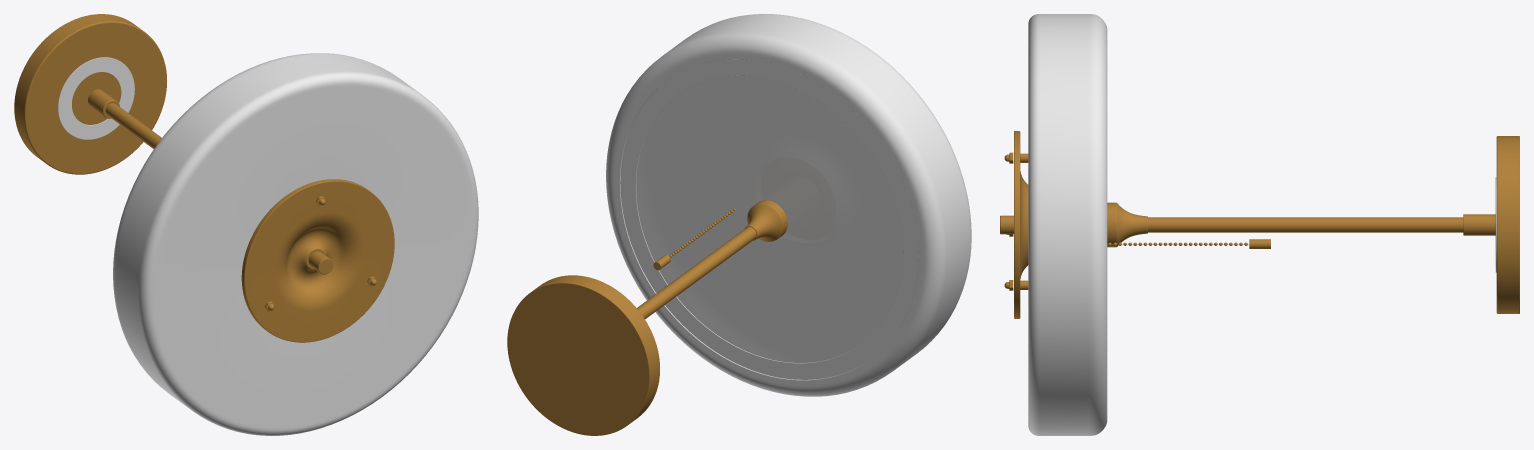
File: Bert_Frank_Revolve_Table_Lamp_mat(1).obj
3 renders of one model, left to right at view 1: azimuth 30°, elevation 25°; view 2: azimuth 150°, elevation 25°; view 3: azimuth 270°, elevation 25°, orthographic. The views are drawn at different scales.
Visible parts, largest first — view 1: Bert_Frank_Revolve_Table_Lamp_mat1; view 2: Bert_Frank_Revolve_Table_Lamp_mat1; view 3: Bert_Frank_Revolve_Table_Lamp_mat1.
Boxes of the visible parts, x1,y1,x2,y2 form: Bert_Frank_Revolve_Table_Lamp_mat1: [14, 14, 478, 435]; Bert_Frank_Revolve_Table_Lamp_mat1: [507, 14, 971, 435]; Bert_Frank_Revolve_Table_Lamp_mat1: [1000, 14, 1519, 435].
Bounding box in the file's own units: 38 × 38 × 46.81.
